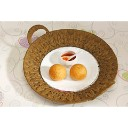bonda: (48, 64, 68, 80), (71, 64, 88, 80)
